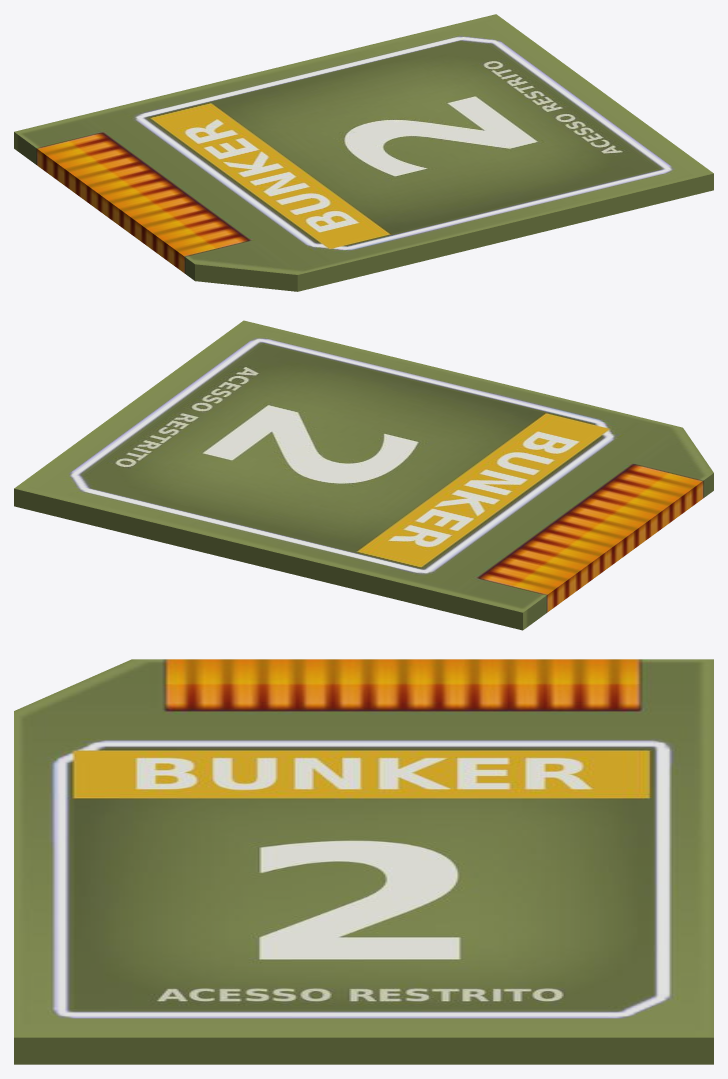
The model's file is cartao_bunker_2.glb.
The picture shows the model from 3 angles, top to bottom: view 1: azimuth 30°, elevation 25°; view 2: azimuth 150°, elevation 25°; view 3: azimuth 270°, elevation 25°; orthographic projection. The views are drawn at different scales.
Visible parts, largest first — view 1: cartao; view 2: cartao; view 3: cartao.
Boxes of the visible parts, x1,y1,x2,y2 form: cartao: (14, 14, 713, 291); cartao: (14, 320, 713, 630); cartao: (14, 659, 713, 1064).
Bounding box in the file's own units: 0.086 × 0.00287 × 0.0672.
Materials: 1 (1 with a texture image).
